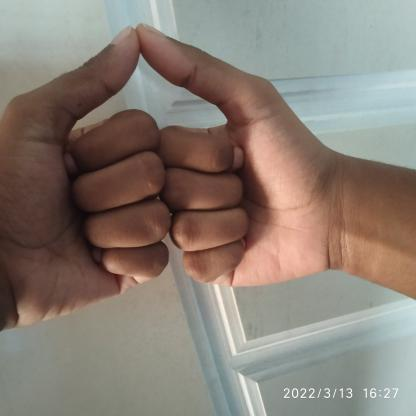A: (7, 18, 334, 318)
